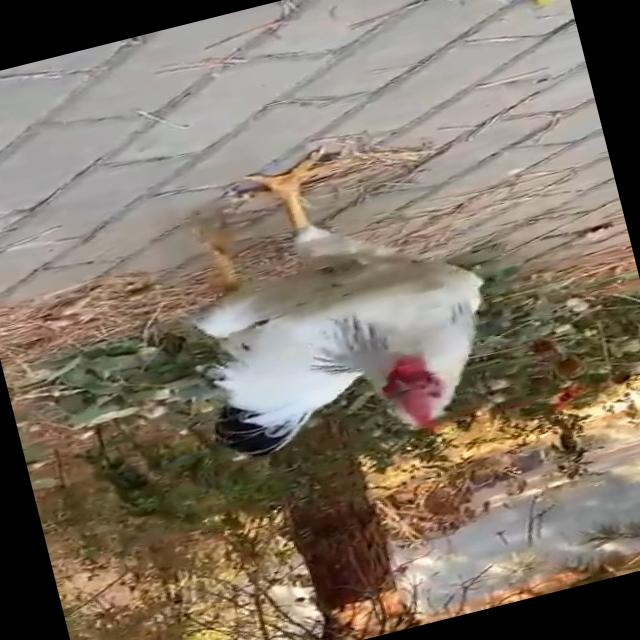walking: (157, 104, 532, 484)
